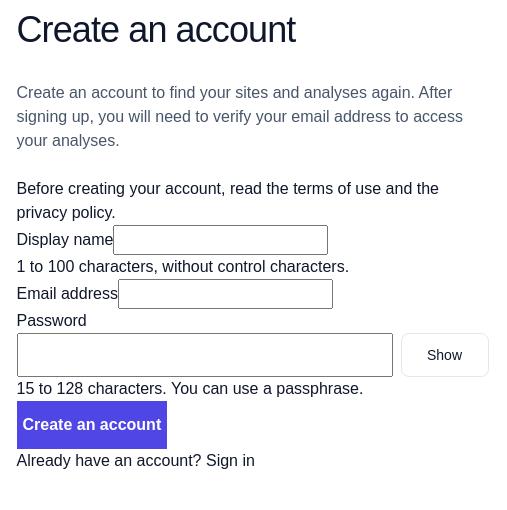
Test: account screens › explains an expired form and lets the user resubmit without retyping in en
Step 1. Type "Fixture" into the field labelled "Display name" → x=221, y=240, box x1=113 y1=225 x2=328 y2=255
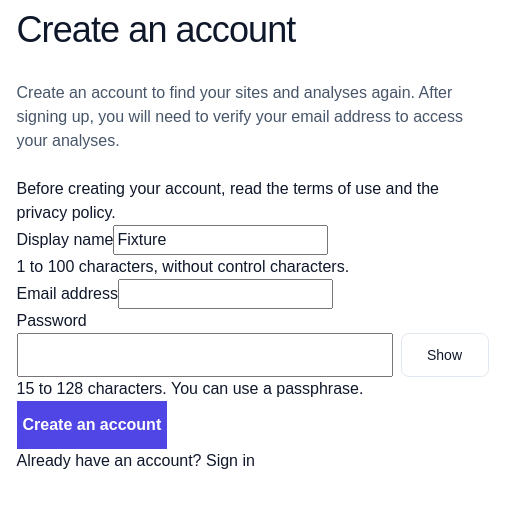
Step 2. Type "fixture@example.com" into the field labelled "Email address" → x=225, y=294, box x1=118 y1=279 x2=333 y2=309
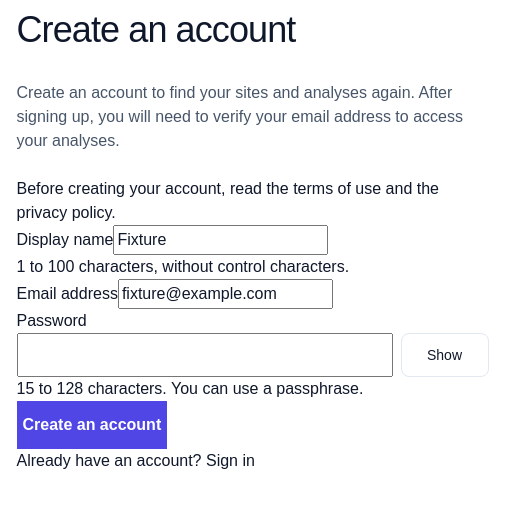
Step 3. Type "synthetic long password" into the password field labelled "Password" → x=204, y=355, box x1=16 y1=333 x2=392 y2=377
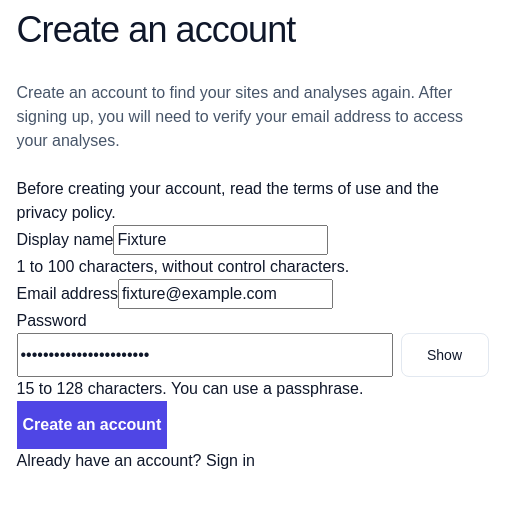
Step 4. Submit the form named "Create an account", box x1=16 y1=225 x2=488 y2=449
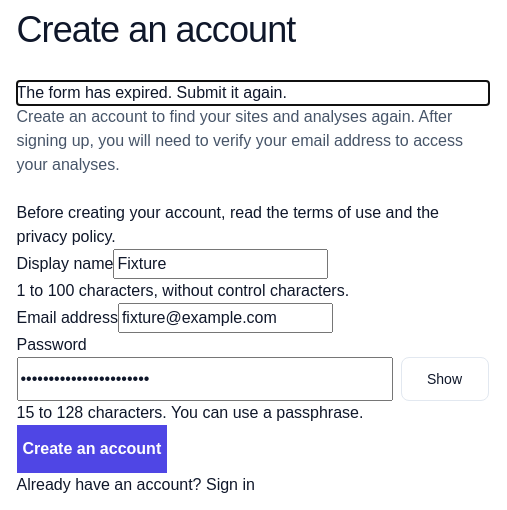
Result: the message reads "The form has expired. Submit it again." at x1=16 y1=84 x2=287 y2=101
Step 5. Submit the form named "Create an account", box x1=16 y1=249 x2=488 y2=473
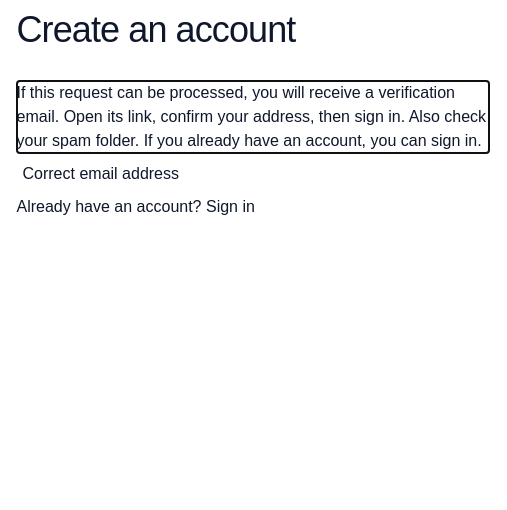
Result: the message is shown at x1=16 y1=81 x2=488 y2=153
